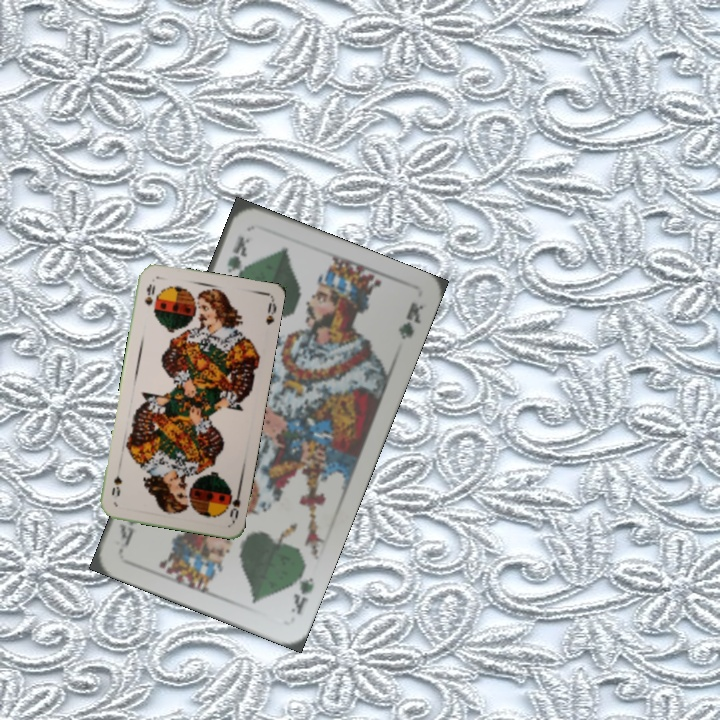GK: (286, 563, 317, 618), (222, 232, 253, 286)
SO: (224, 483, 243, 524), (140, 280, 158, 309)
